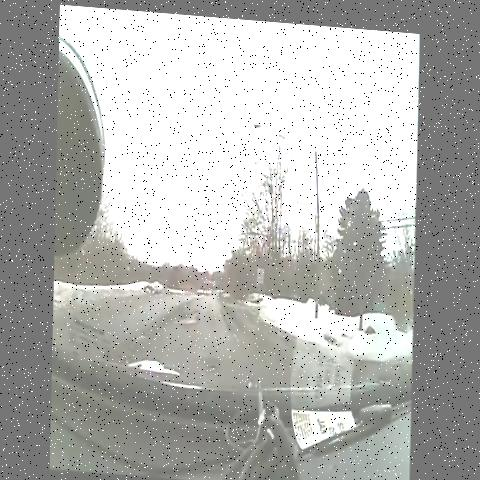pothole: (170, 296, 205, 330), (131, 309, 154, 348), (204, 351, 223, 376)
